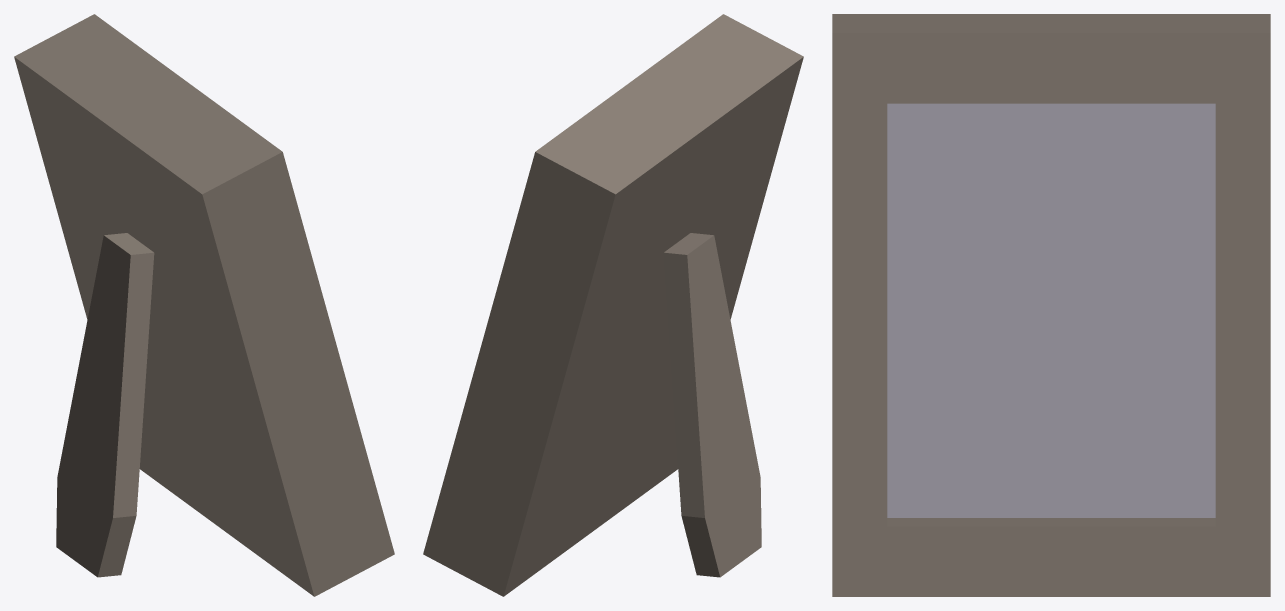
File: Cadre_Photo.fbx
3 views of the same model, side by side, from view 1: azimuth 30°, elevation 25°; view 2: azimuth 150°, elevation 25°; view 3: azimuth 270°, elevation 25° (orthographic). The views are drawn at different scales.
Visible parts, largest first — view 1: pCube18; view 2: pCube18; view 3: pCube18.
Boxes of the visible parts, x1=… form: pCube18: x1=14, y1=14, x2=394, y2=596; pCube18: x1=423, y1=14, x2=803, y2=596; pCube18: x1=832, y1=14, x2=1270, y2=596.
Bounding box in the file's own units: 30.25 × 58.82 × 44.06.
